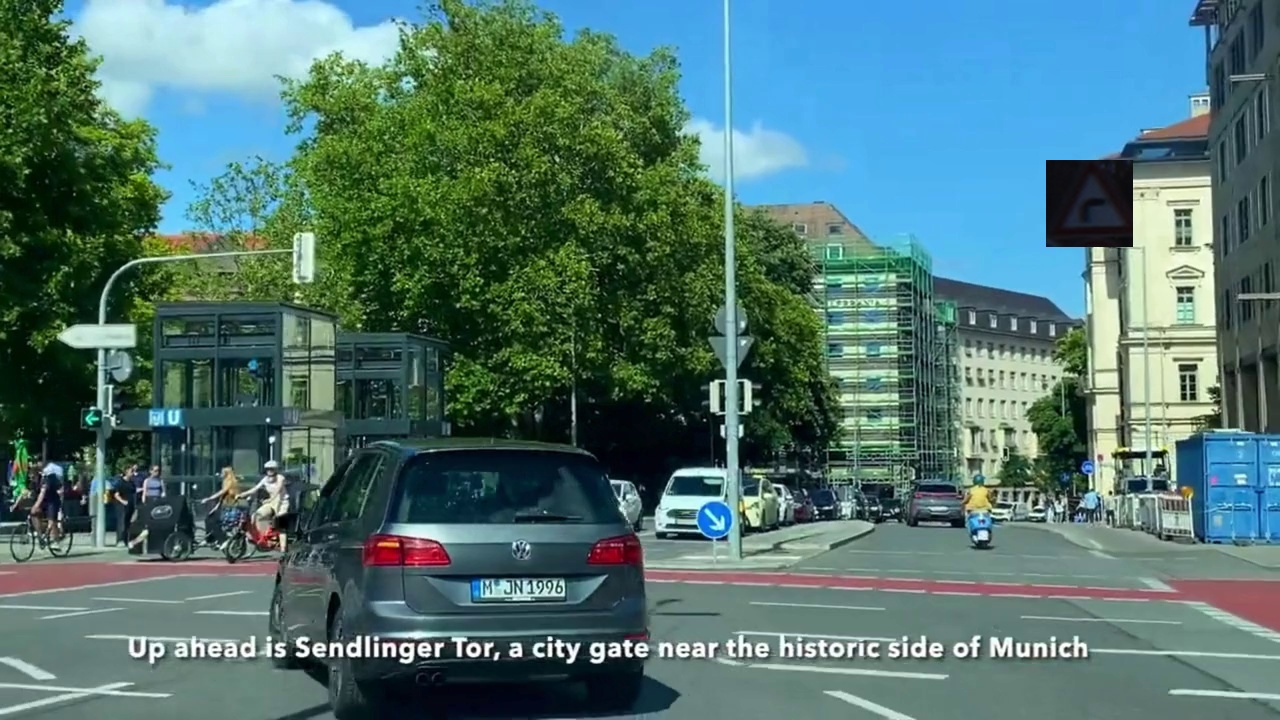Curve right: (1046, 160, 1133, 247)
